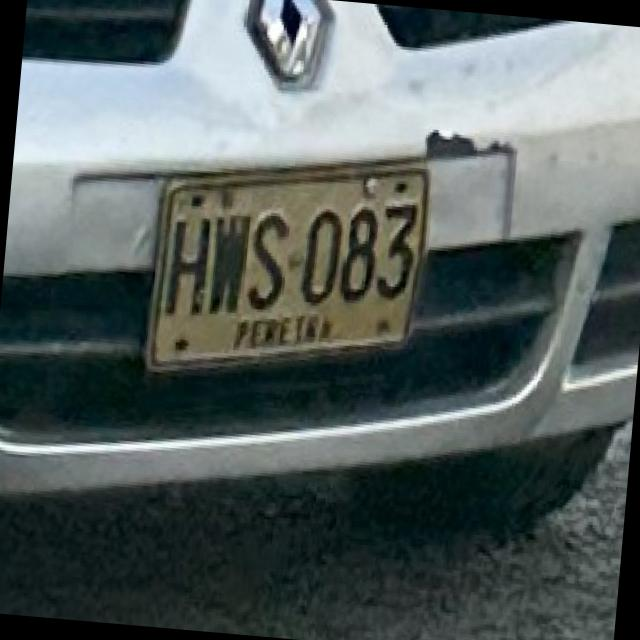number plate: (145, 164, 420, 364)
